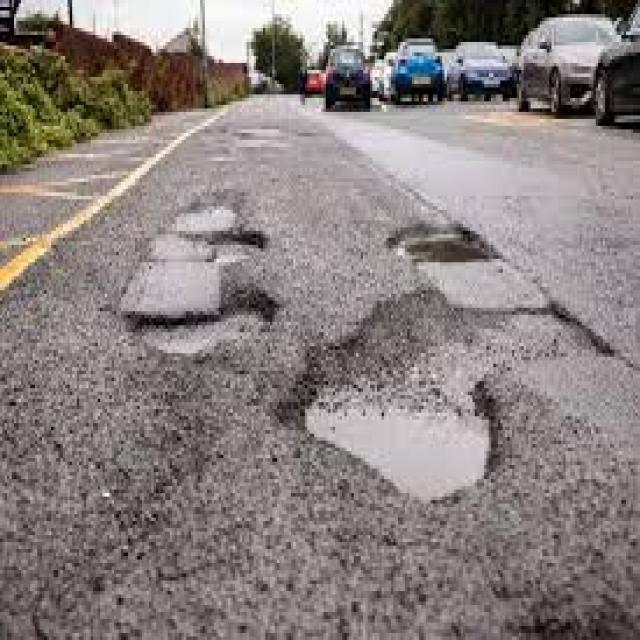pothole: (272, 288, 514, 512), (113, 280, 288, 365), (384, 213, 501, 269), (200, 223, 272, 269)
